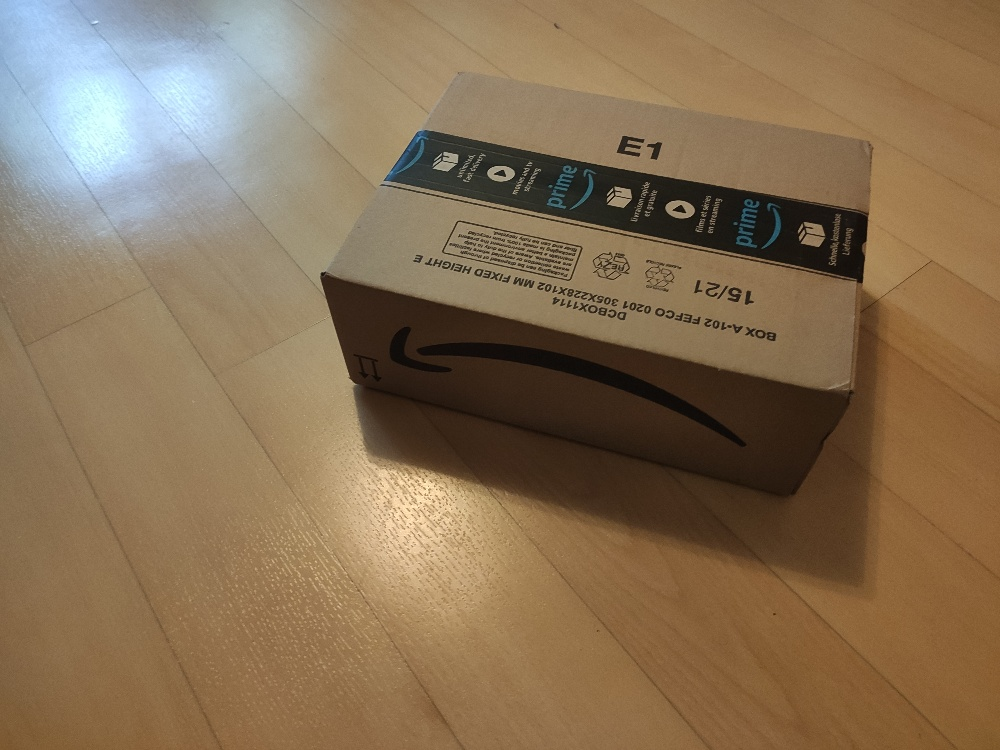good-parcel: (317, 57, 882, 521)
